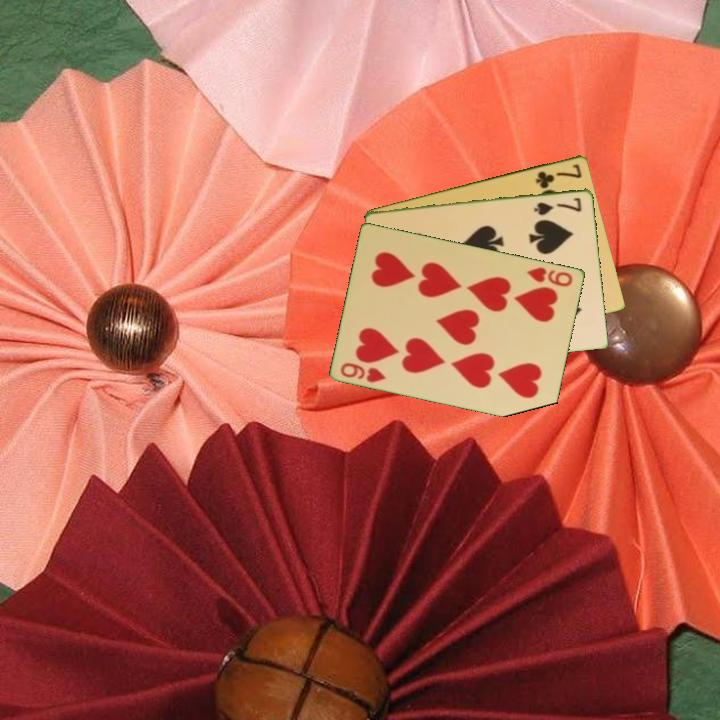7c: (532, 160, 585, 191)
7s: (531, 194, 584, 218)
9h: (524, 263, 576, 289), (337, 359, 389, 385)
